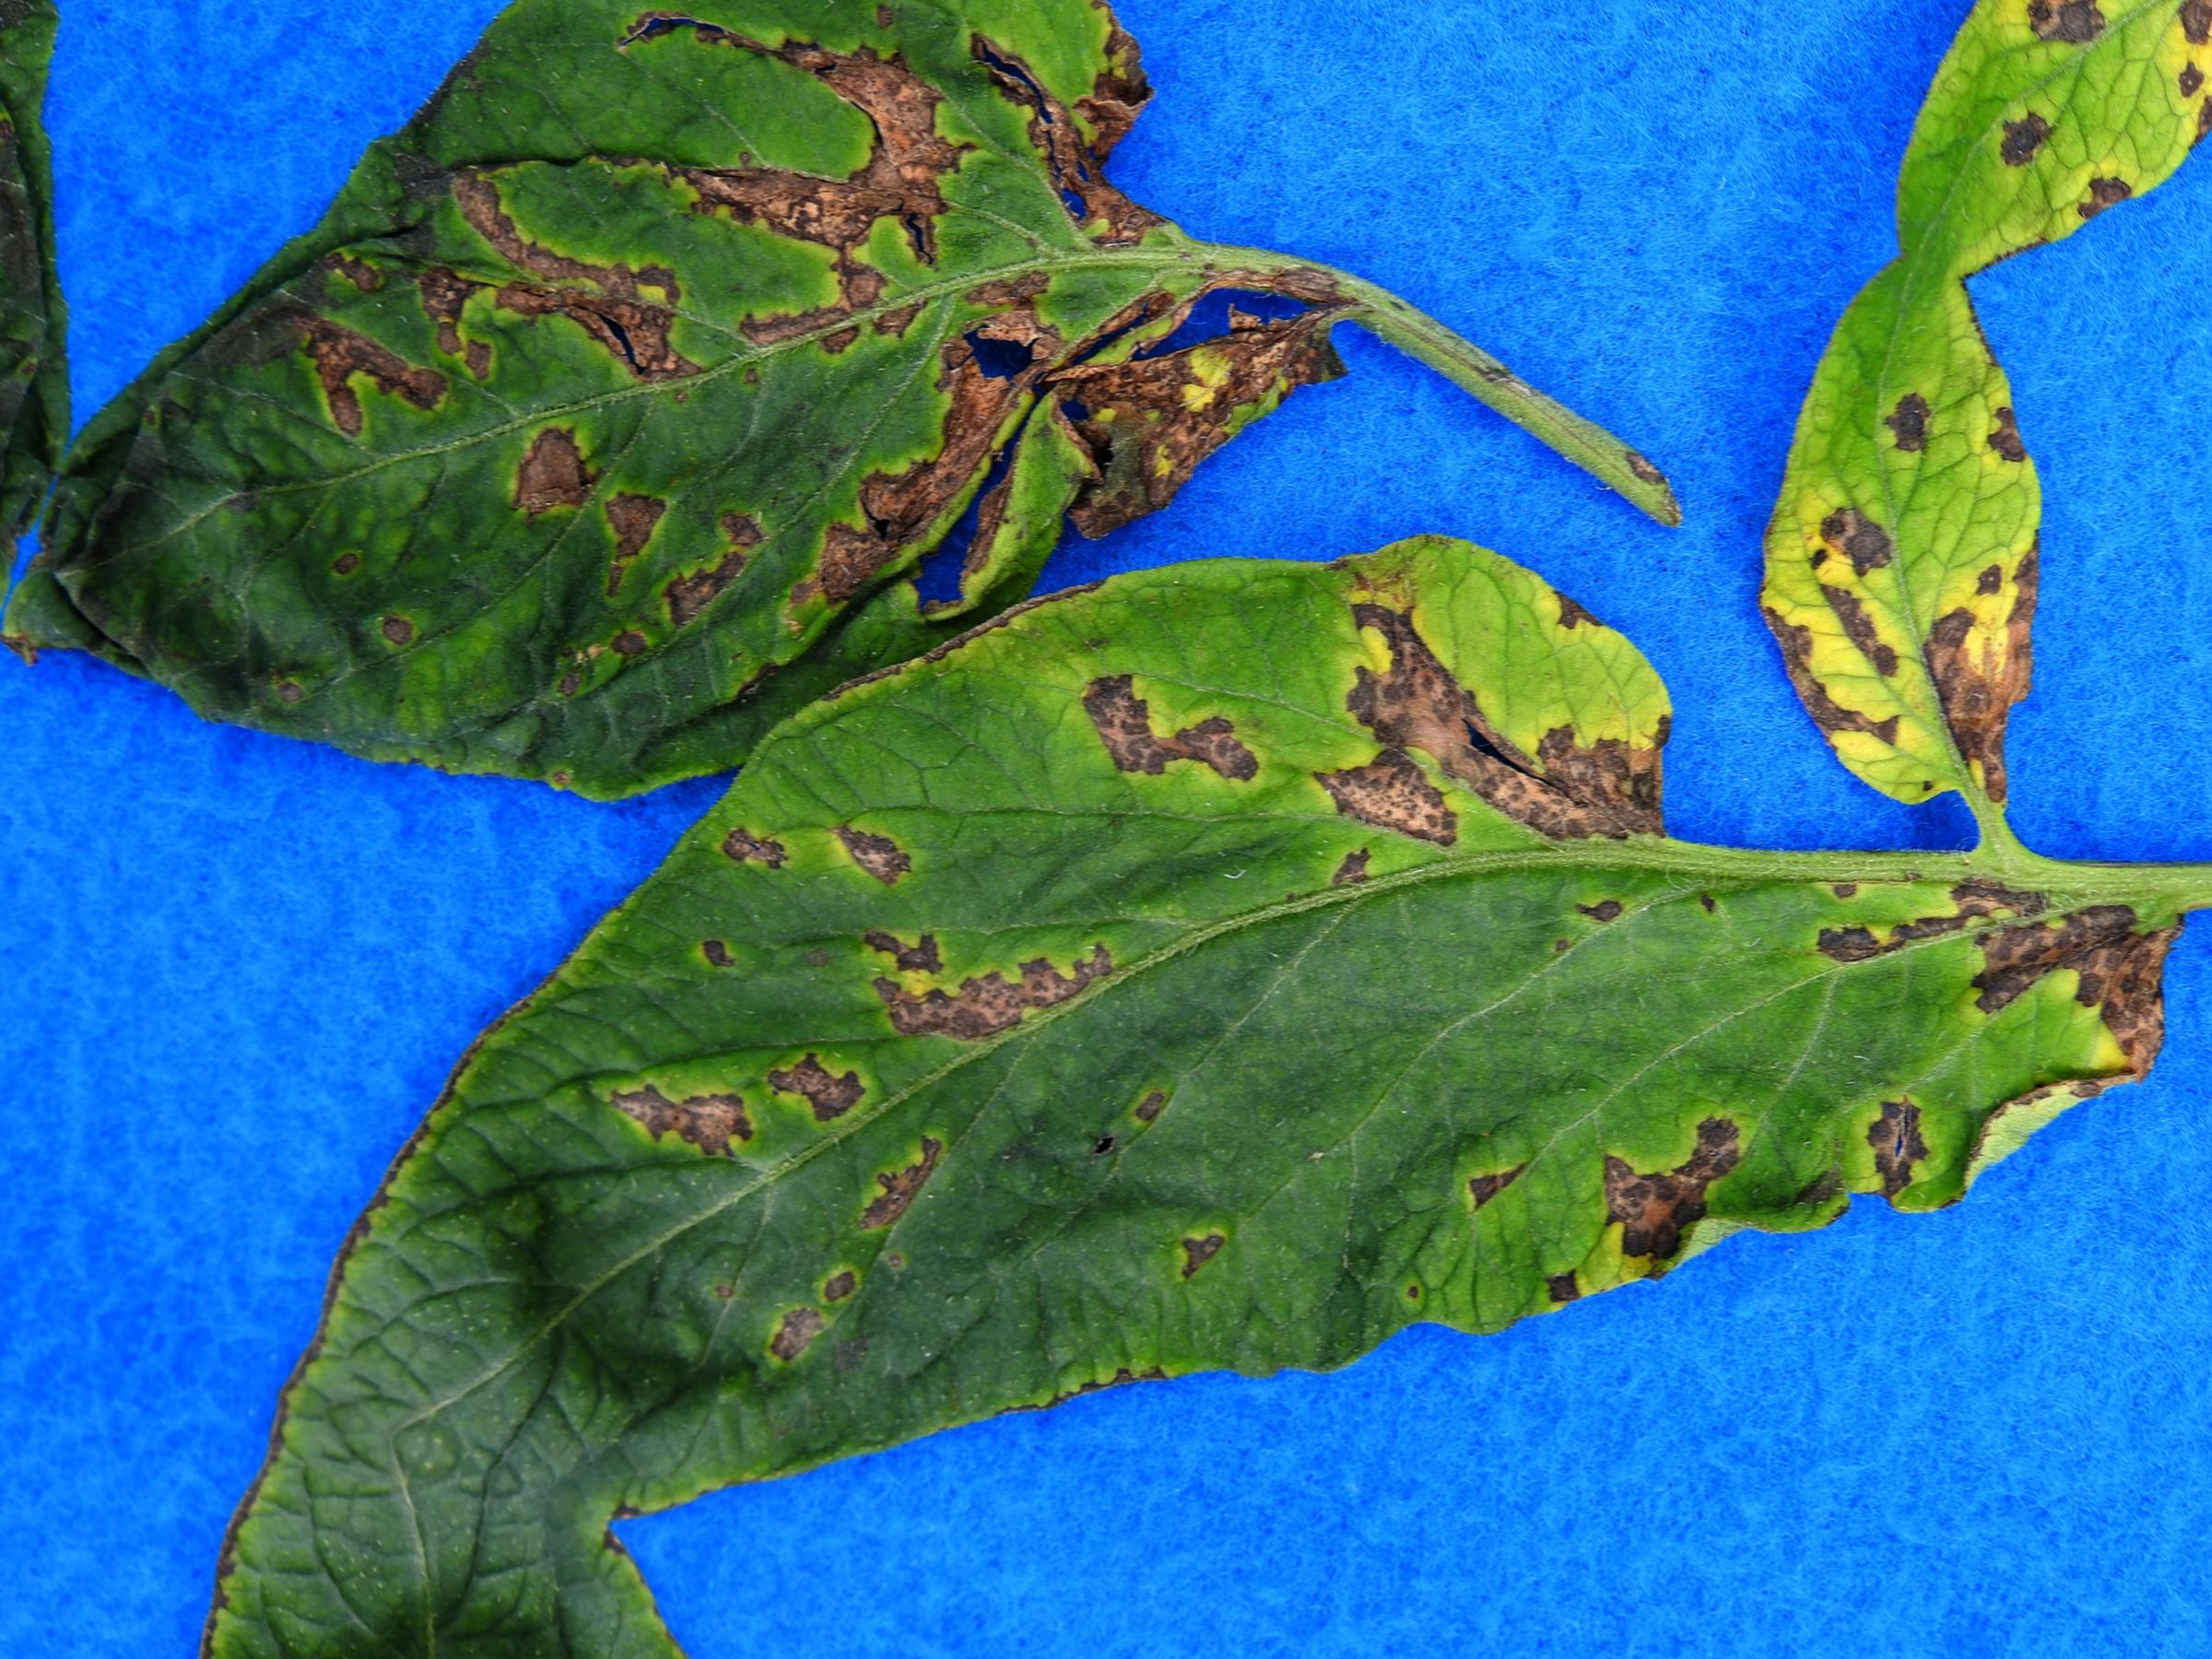Tomato leaf bacterial spot: (253, 179, 2212, 1659), (0, 0, 1399, 1066), (1639, 232, 2212, 861)
